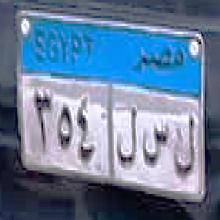3: (34, 91, 52, 149)
4: (78, 94, 93, 160)
5: (58, 103, 75, 149)
laam: (174, 115, 195, 178), (118, 106, 137, 166)
seen: (142, 122, 170, 164)
